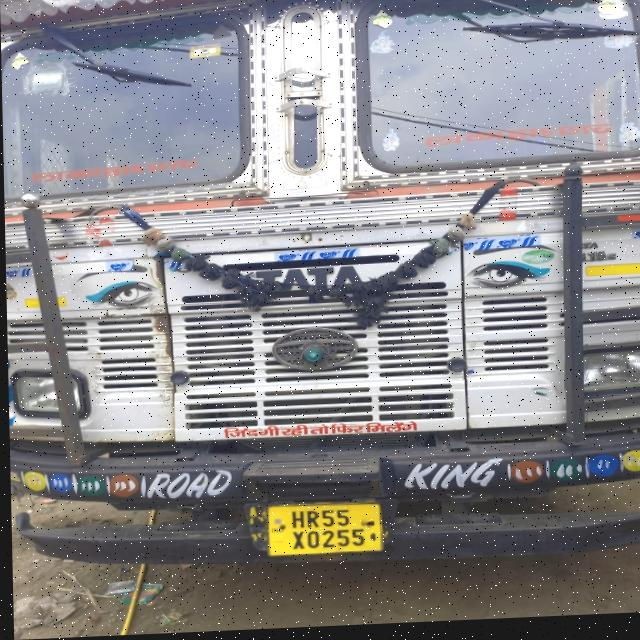plate: (256, 502, 384, 568)
